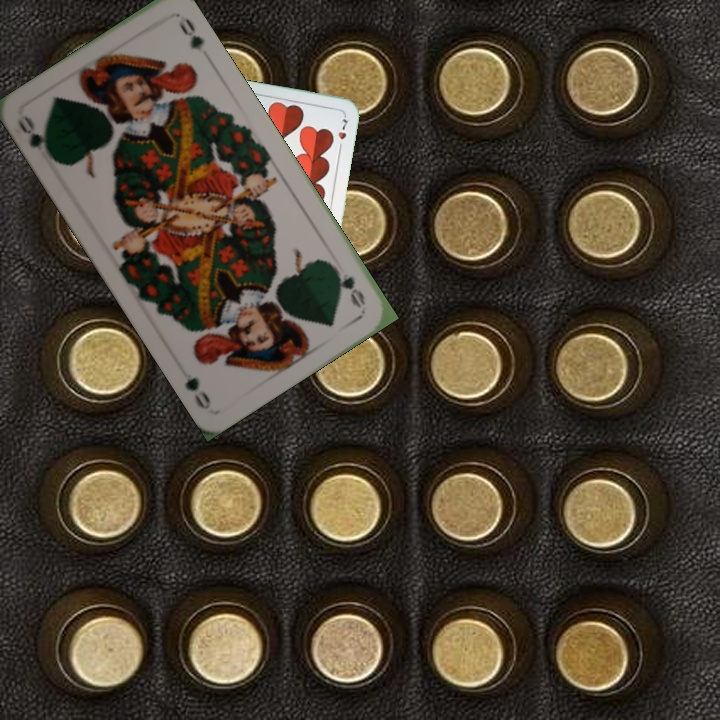GO: (14, 112, 61, 168), (327, 260, 369, 311)
